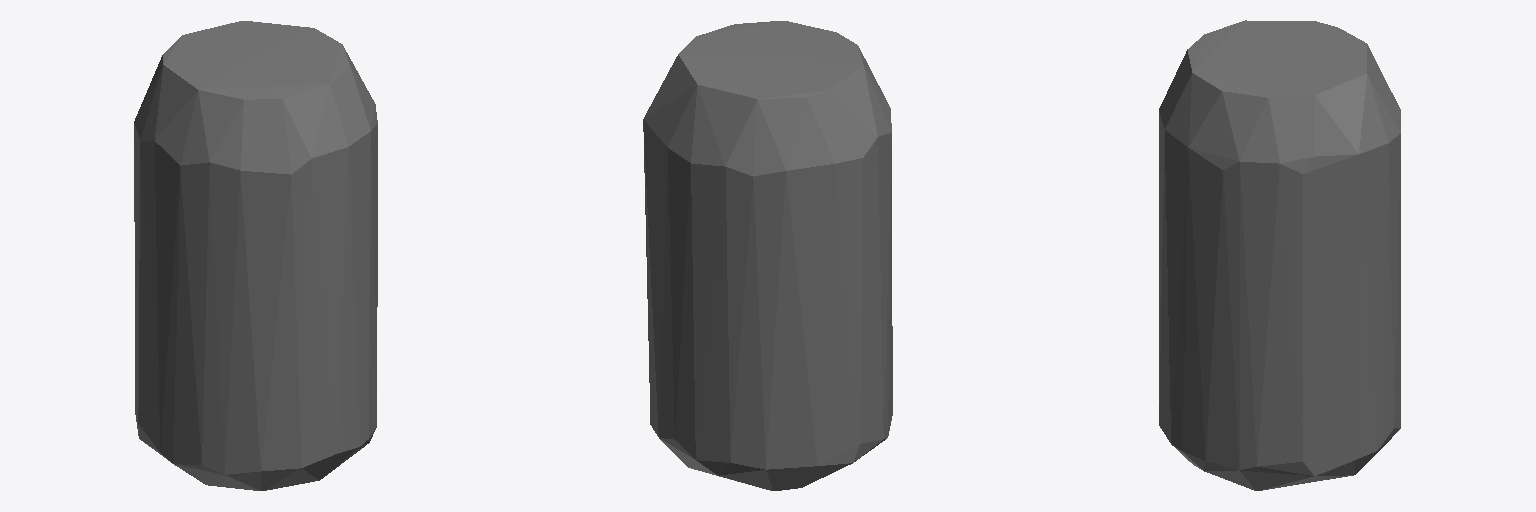
URDF robot description (can_010):
<?xml version="1.0" ?>
<robot name="can_010">
  <material name="color">
    <color rgba=".5 .5 .5 1"/>
  </material>

  <link name="base_link">
    <contact>
      <lateral_friction value="1.0"/>
      <rolling_friction value="0.001"/>
      <spinning_friction value="0.001"/>
      <inertia_scaling value="1.0"/>
    </contact>
    <inertial>
      <origin rpy="0 0 0" xyz="-1.82678e-06 3.32995e-06 -0.00150688"/>
       <mass value="0.1"/>
       <inertia ixx="1" ixy="0" ixz="0" iyy="1" iyz="0" izz="1"/>
    </inertial>

    <visual>
      <origin rpy="0 0 0" xyz="0 0 0"/>
      <geometry>
        <mesh filename="can_010_vhacd_0_of_1.obj" scale="1 1 1"/>
      </geometry>
      <material name="color"/>
    </visual>

    <collision>
      <origin rpy="0 0 0" xyz="0 0 0"/>
      <geometry>
        <mesh filename="can_010_vhacd_0_of_1.obj" scale="1 1 1"/>
      </geometry>
    </collision>

  </link>
</robot>

--- What the picture shows (computed from the rendered views, not written in the file) ---
Views: 3 orthographic renders of the robot side by side, from view 1: azimuth 30°, elevation 25°; view 2: azimuth 150°, elevation 25°; view 3: azimuth 270°, elevation 25°.
Model can_010 with 1 links and 0 joints (none), rooted at base_link, posed every joint at zero.
Links seen in each view (by area): view 1: base_link; view 2: base_link; view 3: base_link.
Boxes of the visible links, <box> form: base_link: <box>134,21,377,490</box>; base_link: <box>643,21,892,490</box>; base_link: <box>1159,20,1400,490</box>.
Size in the robot's own frame: 0.0691 by 0.069 by 0.1249 metres.
Meshes: 1 distinct files referenced, 1 mesh visuals loaded (1 OBJ).